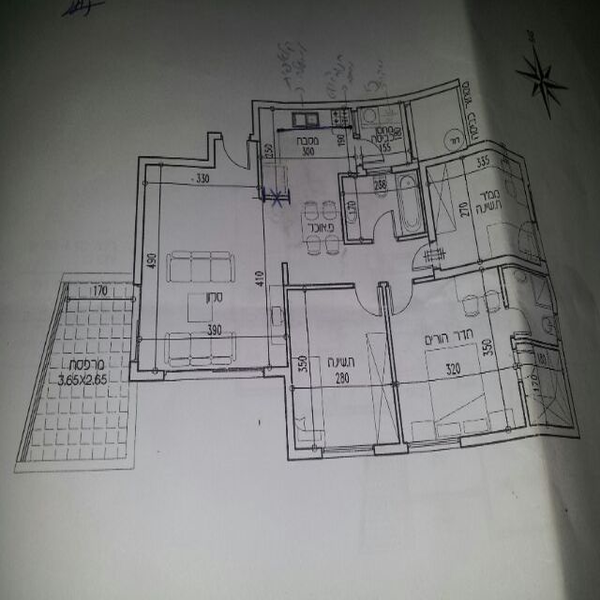door: (348, 282, 386, 322), (412, 237, 447, 273), (225, 136, 256, 175), (390, 279, 417, 319), (354, 135, 384, 170), (372, 210, 398, 244)
room: (137, 150, 294, 381), (282, 279, 406, 459), (422, 138, 559, 282)
wall: (137, 155, 146, 286), (255, 99, 385, 108), (285, 367, 295, 459), (138, 156, 212, 166), (127, 371, 160, 383), (375, 444, 407, 456), (293, 450, 321, 460)
window: (325, 445, 371, 460), (414, 436, 460, 448)
